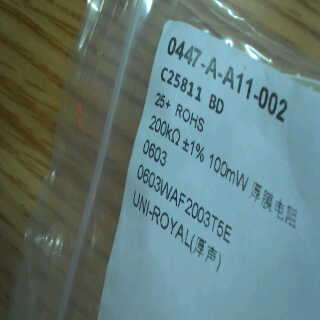200kR: (147, 113, 181, 148)
